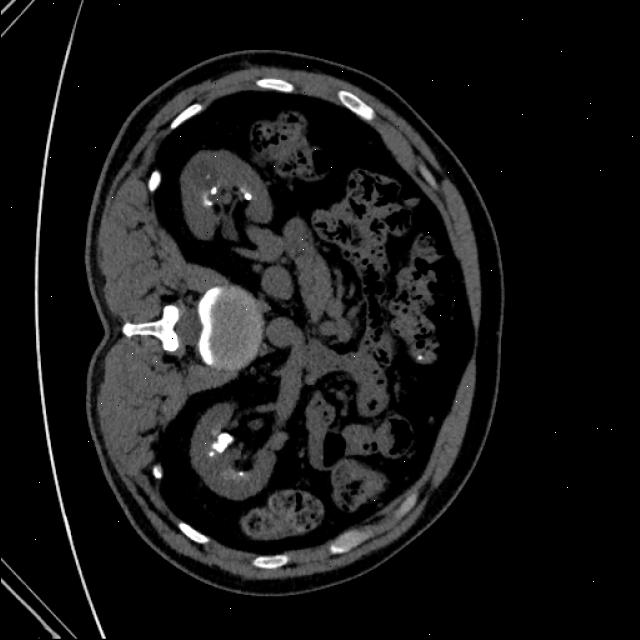kidneystone: (212, 432, 234, 454), (203, 196, 212, 204), (209, 186, 216, 195), (243, 192, 251, 199)
